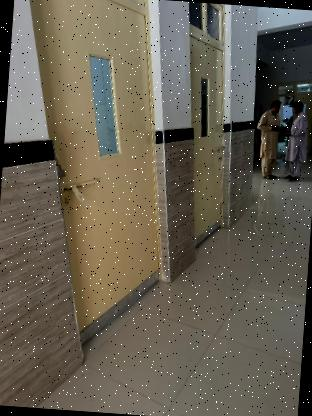door: (0, 0, 183, 358), (162, 1, 241, 250)
person: (252, 97, 287, 184), (281, 96, 310, 186)
